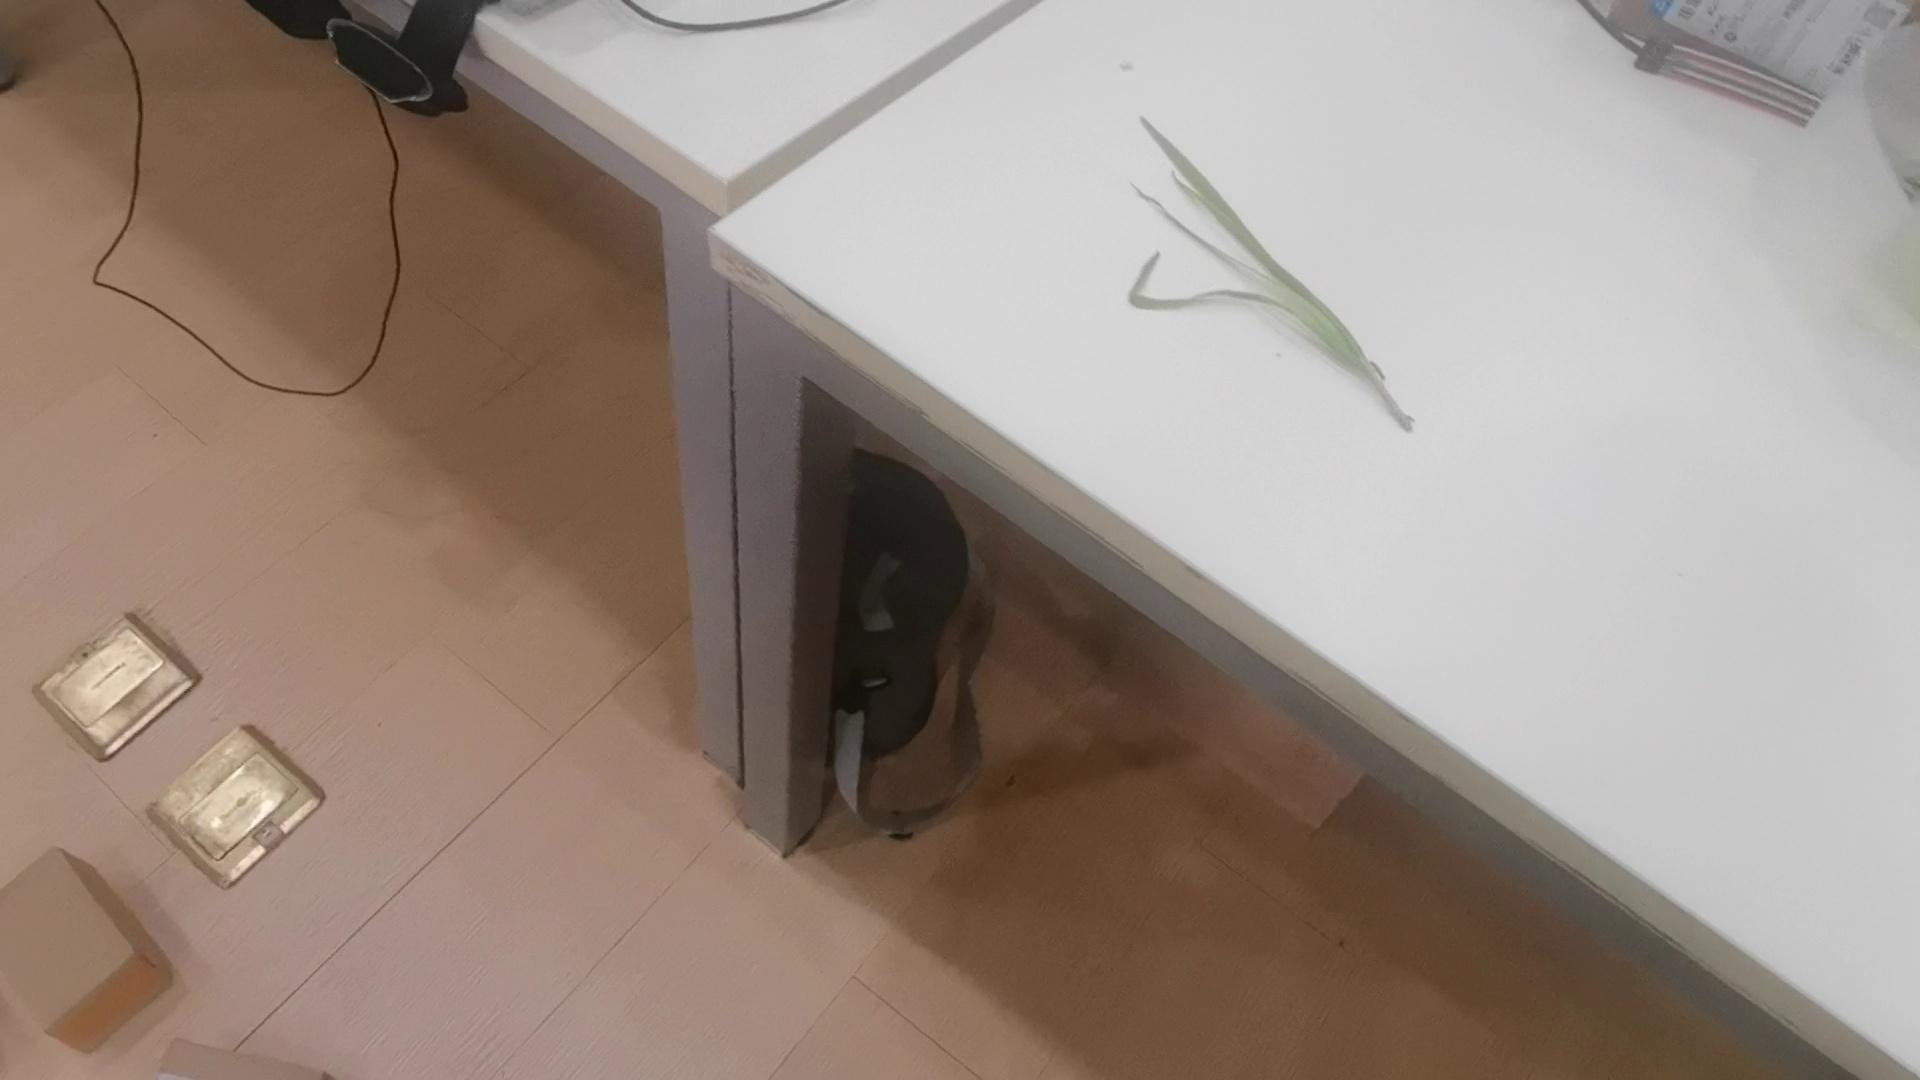chives: (1127, 113, 1425, 440)
